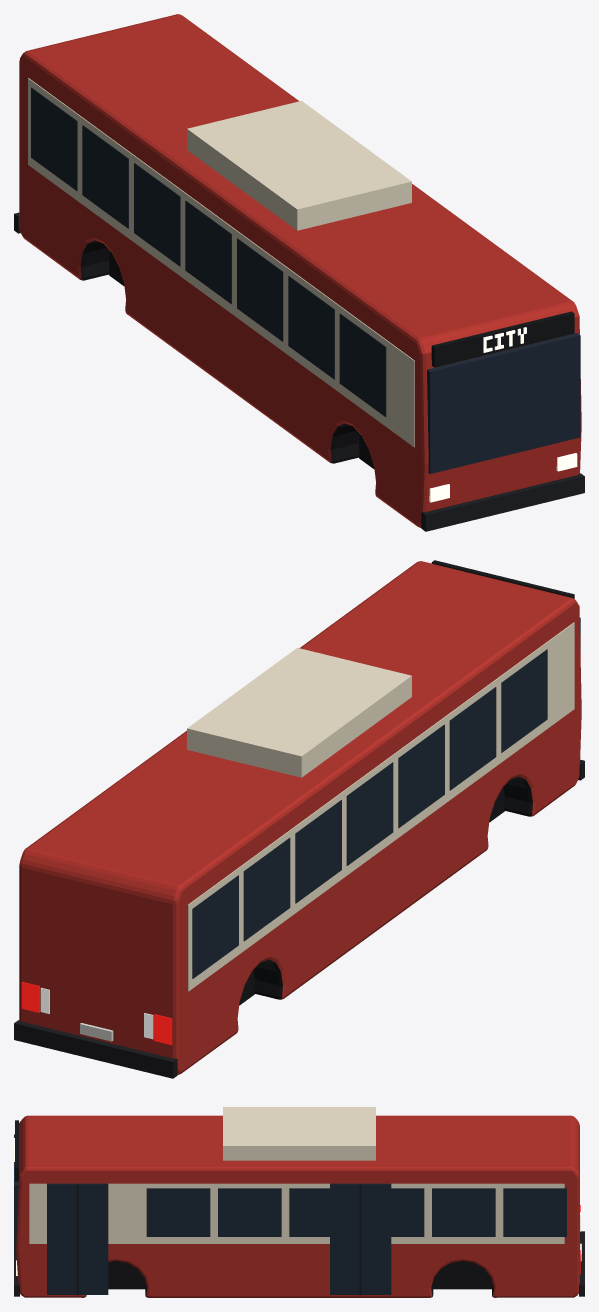
The model's file is veh_bus_body.glb.
The picture shows the model from 3 angles, top to bottom: view 1: azimuth 30°, elevation 25°; view 2: azimuth 150°, elevation 25°; view 3: azimuth 270°, elevation 25°; orthographic projection. The views are drawn at different scales.
Visible parts, largest first — view 1: veh_bus_body; view 2: veh_bus_body; view 3: veh_bus_body.
Part boxes in pixels (<box>): veh_bus_body: <box>14,14,584,531</box>; veh_bus_body: <box>14,560,584,1078</box>; veh_bus_body: <box>14,1107,584,1297</box>.
Bounding box in the file's own units: 2.56 × 3.15 × 11.2.
